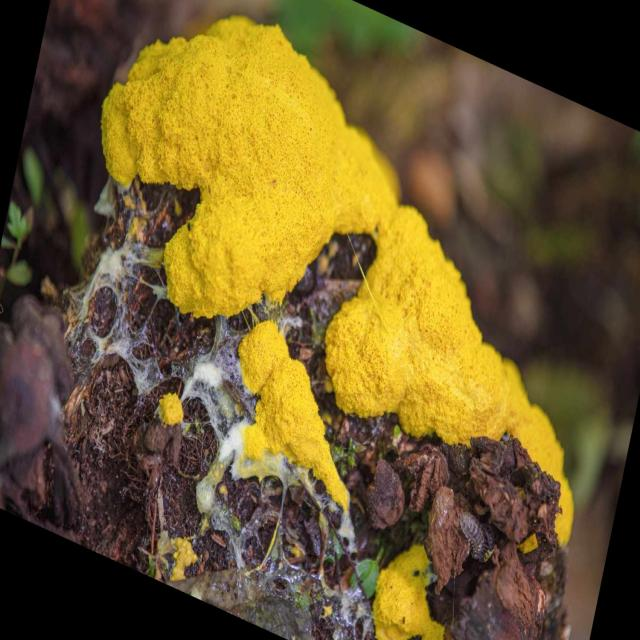Dog_vomit_slime_mold: (94, 15, 615, 615)
